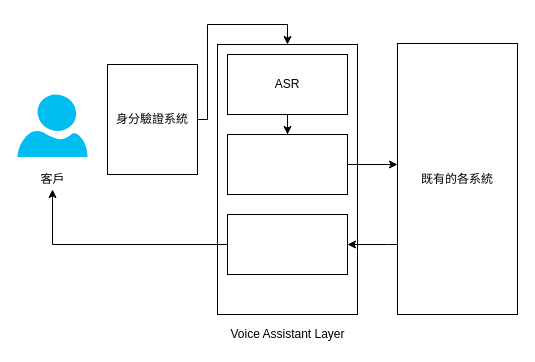
The diagram is 535 pixels wide and 362 high, and some of its shapes have lost their labels. Each missing label, with the box of its shape:
NLU / NLP: (226, 134, 348, 194)
TTS / NLG: (226, 214, 348, 274)
